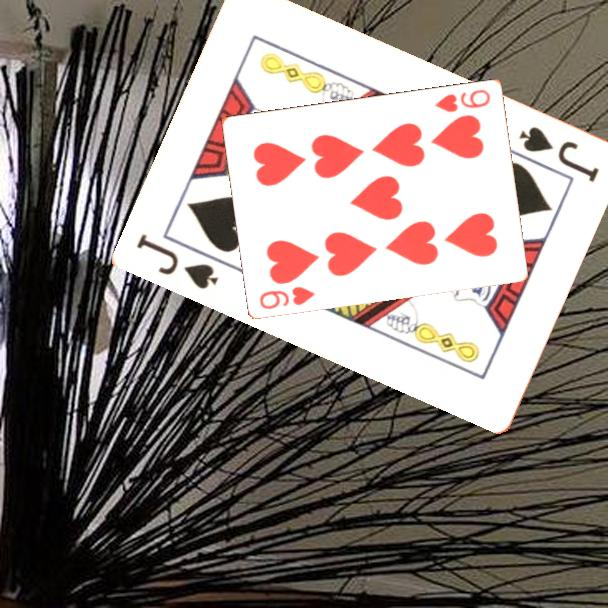h09: (431, 85, 494, 115), (256, 282, 318, 312)
s11: (133, 230, 222, 292), (516, 122, 603, 185)
